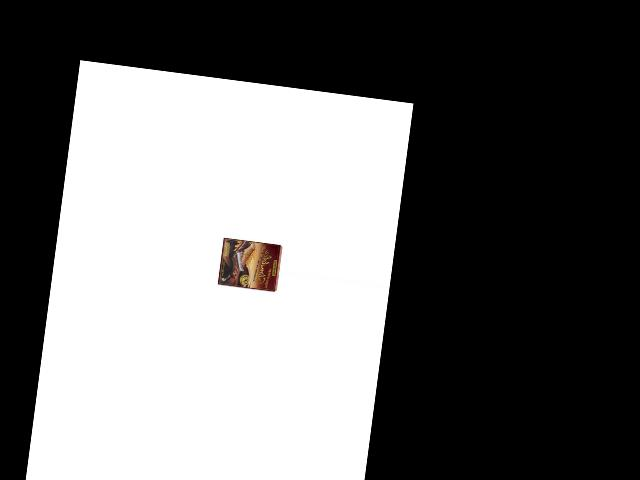chocolate: (217, 237, 282, 292)
